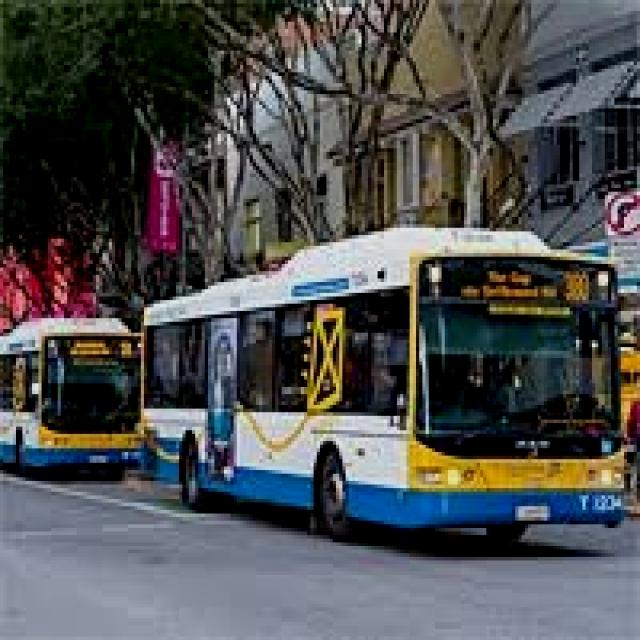bus: (140, 221, 626, 540), (3, 321, 145, 481)
